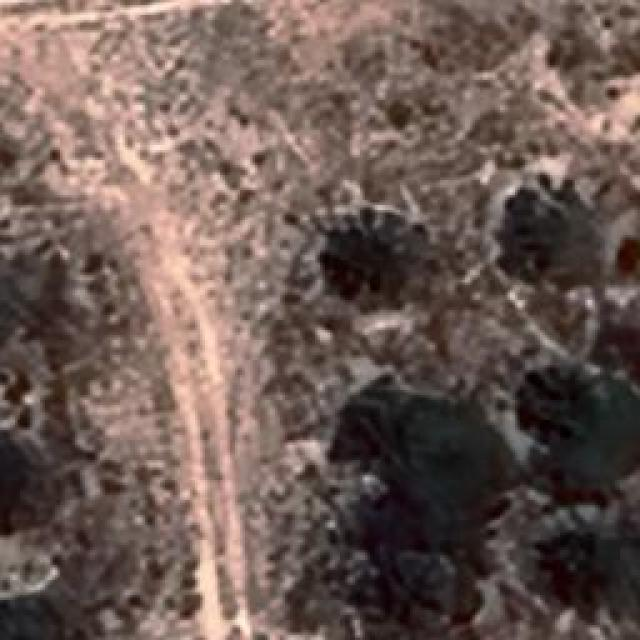PalmTree: (99, 90, 396, 591), (22, 97, 99, 479), (542, 519, 640, 619), (508, 182, 592, 272), (328, 206, 412, 292), (349, 384, 421, 469), (534, 356, 608, 429), (0, 597, 71, 640)
